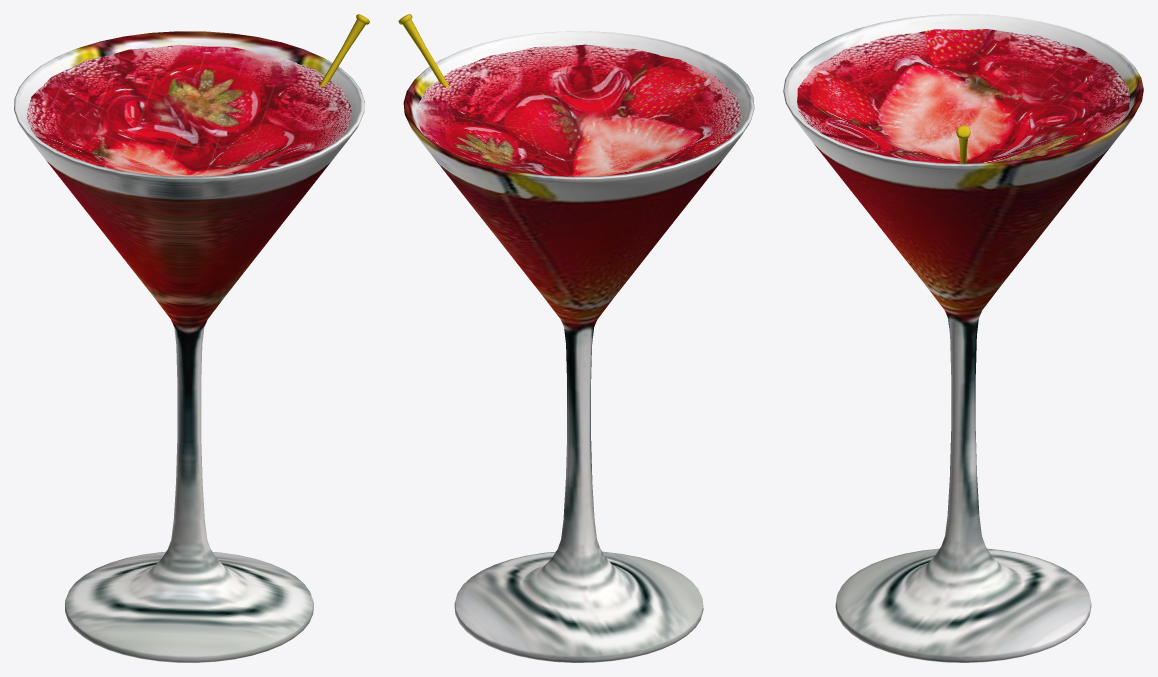
Rendered from cocktail.fbx.
3 renders of one model, left to right at view 1: azimuth 30°, elevation 25°; view 2: azimuth 150°, elevation 25°; view 3: azimuth 270°, elevation 25°, orthographic. The views are drawn at different scales.
Parts seen in each view (by area): view 1: polySurface3; view 2: polySurface3; view 3: polySurface3.
Boxes of the visible parts, x1,y1,x2,y2 form: polySurface3: [14, 14, 369, 662]; polySurface3: [398, 14, 754, 662]; polySurface3: [783, 14, 1143, 662].
Size of the model in its own units: 7 by 11.22 by 6.42.
